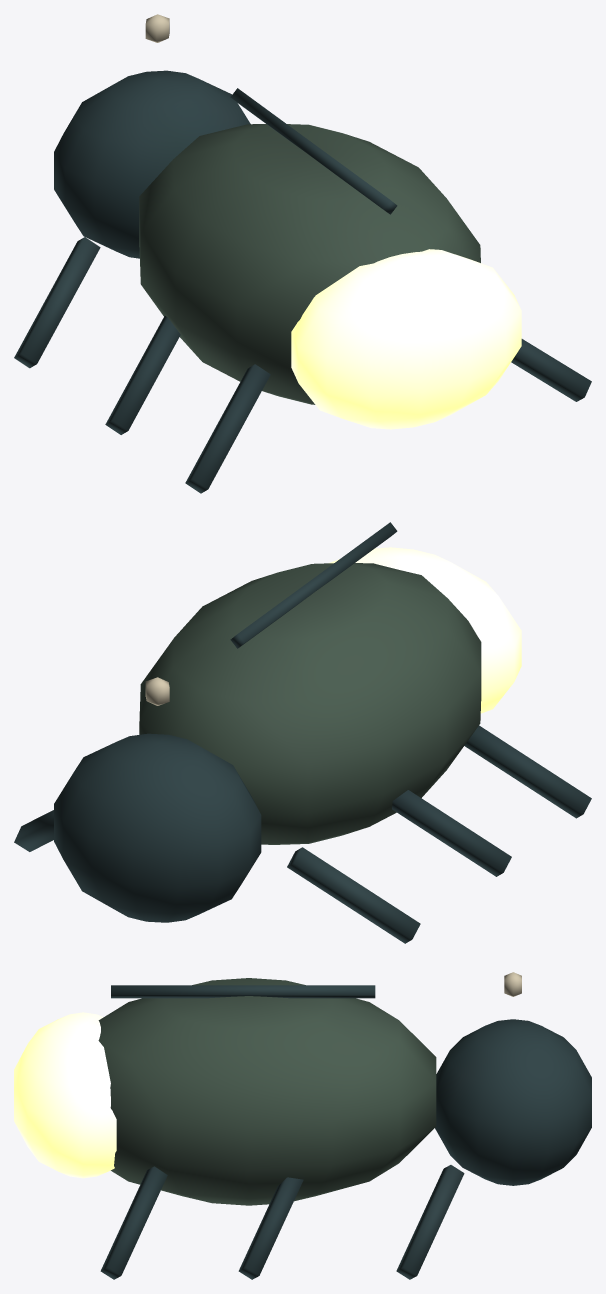
The model's file is insect_firefly.glb.
3 renders of one model, top to bottom at view 1: azimuth 30°, elevation 25°; view 2: azimuth 150°, elevation 25°; view 3: azimuth 270°, elevation 25°, orthographic. The views are drawn at different scales.
Size of the model in its own units: 0.101 by 0.064 by 0.1465.
